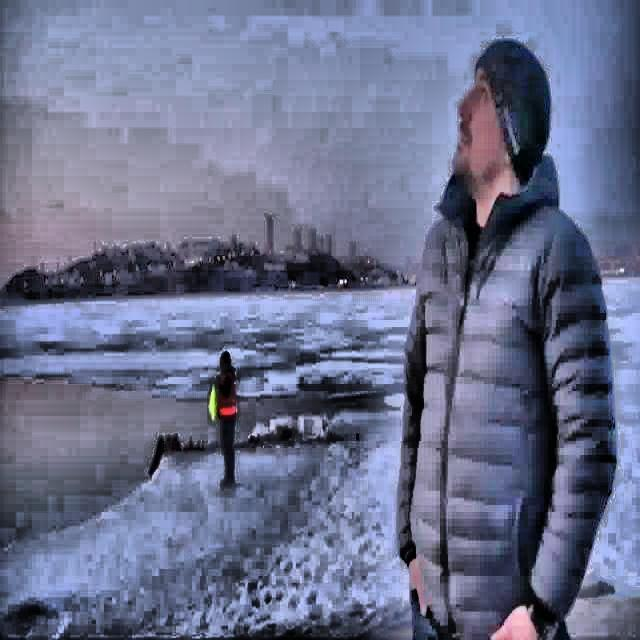safety_jacket: (216, 371, 236, 421), (209, 382, 219, 421)
